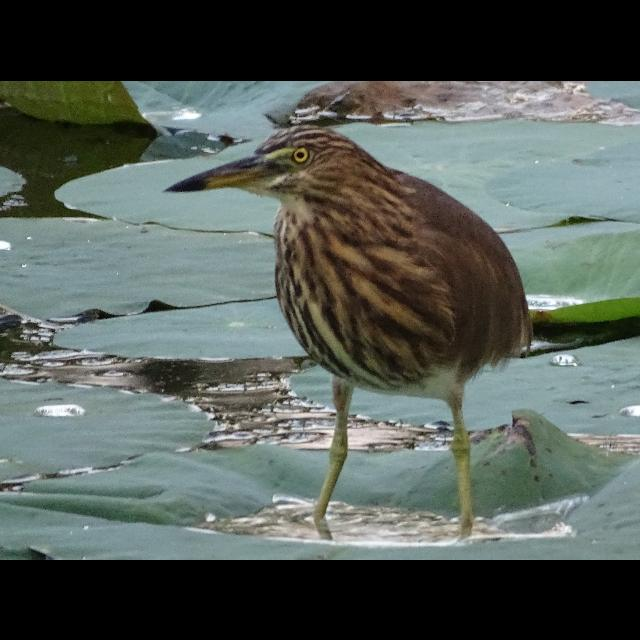heron: (165, 116, 543, 516)
